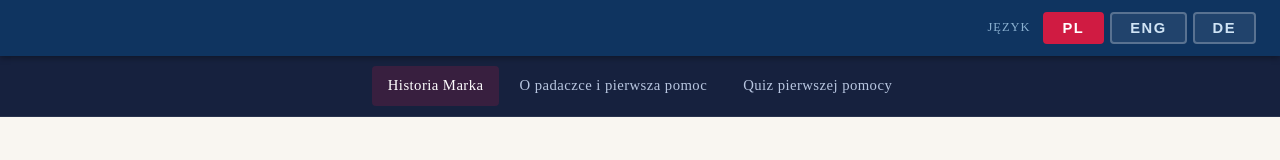
Test case: language switching › switches to German
The image size is (1280, 160).
Click the button "DE". click: point(1224, 28)
box: [1193,12,1256,44]
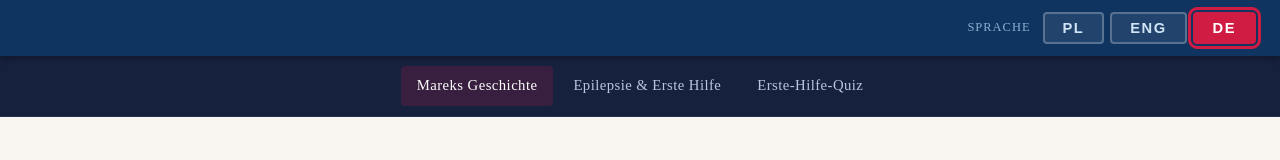
Result: the link "Mareks Geschichte" is shown at [401,66,553,106]
